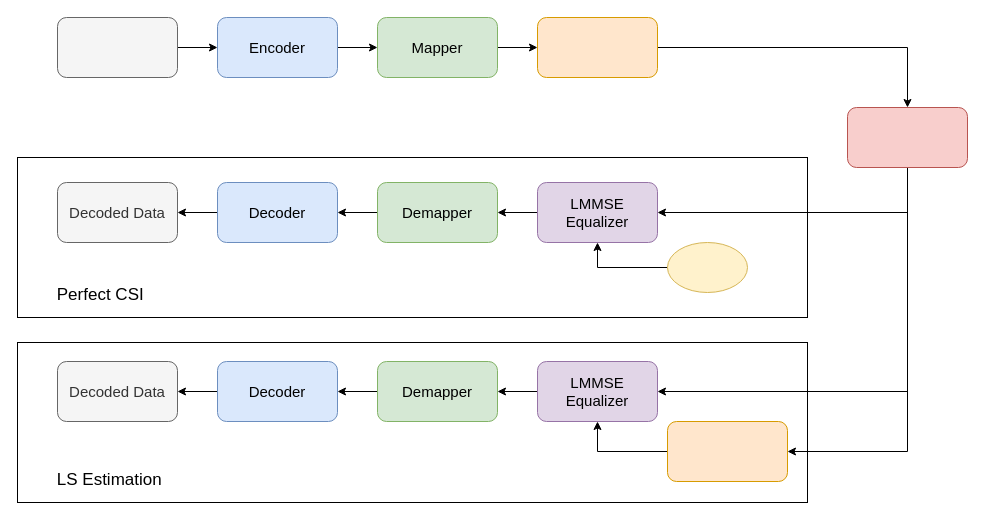
This 985x520 diagram has some shape labels left out. Here are the shapes that lost their labels. From the top down, the centre of each, then its label:
At (x=117, y=47): "Binary Source".
At (x=597, y=47): "ResourceGrid Mapper".
At (x=907, y=137): "3GPP CDL Channel".
At (x=707, y=267): "Exact CSI".
At (x=727, y=451): "LS Channel Estimation".
